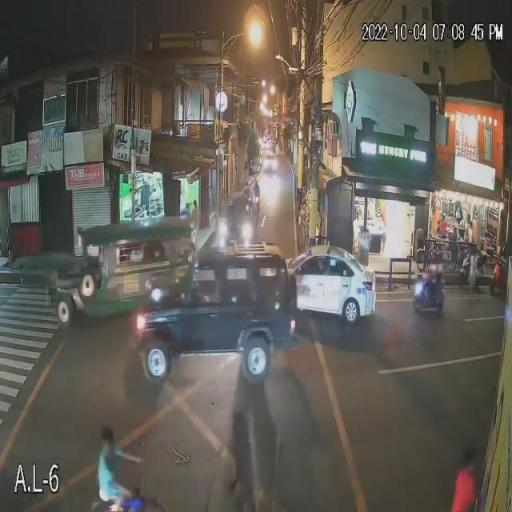helmet: (428, 249, 438, 261)
motorcycle: (410, 280, 446, 312), (429, 263, 444, 307)
